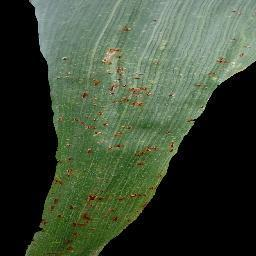Corn_Common_Rust: (26, 43, 234, 256), (235, 7, 256, 68), (120, 21, 145, 38), (145, 12, 169, 24)
